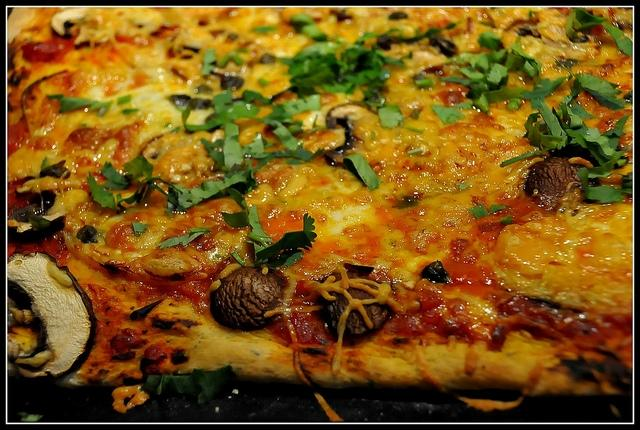mushroom: (8, 252, 96, 380), (316, 270, 392, 340), (210, 268, 284, 332), (324, 101, 379, 168), (524, 158, 584, 198), (51, 7, 88, 39), (429, 34, 457, 59), (422, 259, 448, 284), (518, 27, 540, 38), (389, 12, 408, 20)
